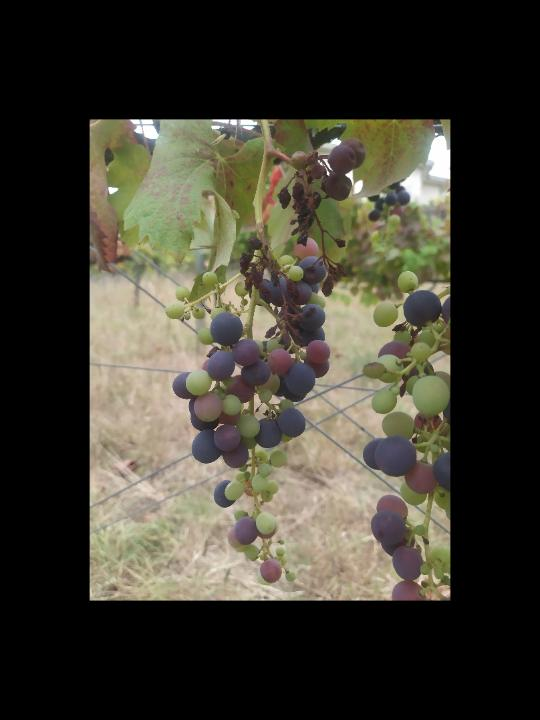grape: (166, 234, 331, 586), (363, 270, 449, 599), (276, 138, 367, 299)
